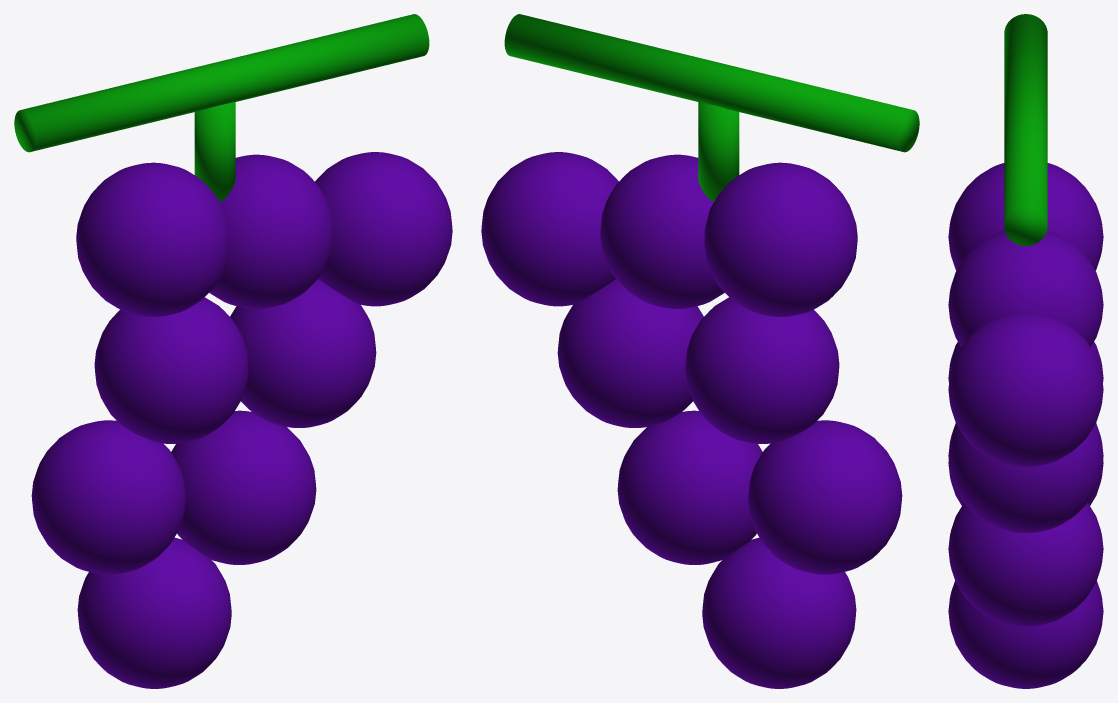
The model's file is grape.fbx.
The picture shows the model from 3 angles, left to right: view 1: azimuth 30°, elevation 25°; view 2: azimuth 150°, elevation 25°; view 3: azimuth 270°, elevation 25°; orthographic projection.
Visible parts, largest first — view 1: Sphere, Circle; view 2: Sphere, Circle; view 3: Sphere, Circle.
Part boxes in pixels (x1,y1,x2,y2): Sphere: (31,152,452,688); Circle: (14,14,429,201); Sphere: (481,152,902,688); Circle: (504,14,919,201); Sphere: (948,163,1103,688); Circle: (1004,14,1047,245).
Size of the model in its own units: 2332 by 3215 by 748.
